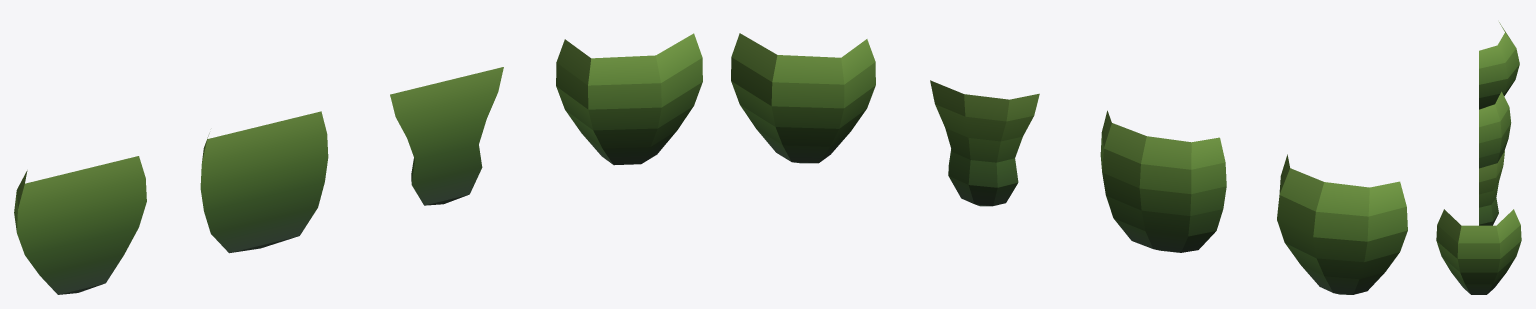
File: grass-overhang-kit.glb
3 views of the same model, side by side, from view 1: azimuth 30°, elevation 25°; view 2: azimuth 150°, elevation 25°; view 3: azimuth 270°, elevation 25° (orthographic). The views are drawn at different scales.
Parts seen in each view (by area): view 1: curtain, blob, corner, strand; view 2: curtain, corner, blob, strand; view 3: corner, blob, curtain, strand.
Boxes of the visible parts, x1,y1,x2,y2 form: curtain: (200, 111, 328, 253); blob: (14, 156, 146, 294); corner: (556, 33, 702, 165); strand: (390, 67, 503, 205); curtain: (1100, 110, 1226, 252); corner: (731, 33, 875, 163); blob: (1277, 154, 1407, 294); strand: (930, 80, 1039, 206); corner: (1436, 209, 1521, 294); blob: (1479, 22, 1519, 109); curtain: (1479, 91, 1511, 168); strand: (1479, 151, 1504, 225).
Size of the model in its own units: 5.87 by 1.05 by 0.98.
